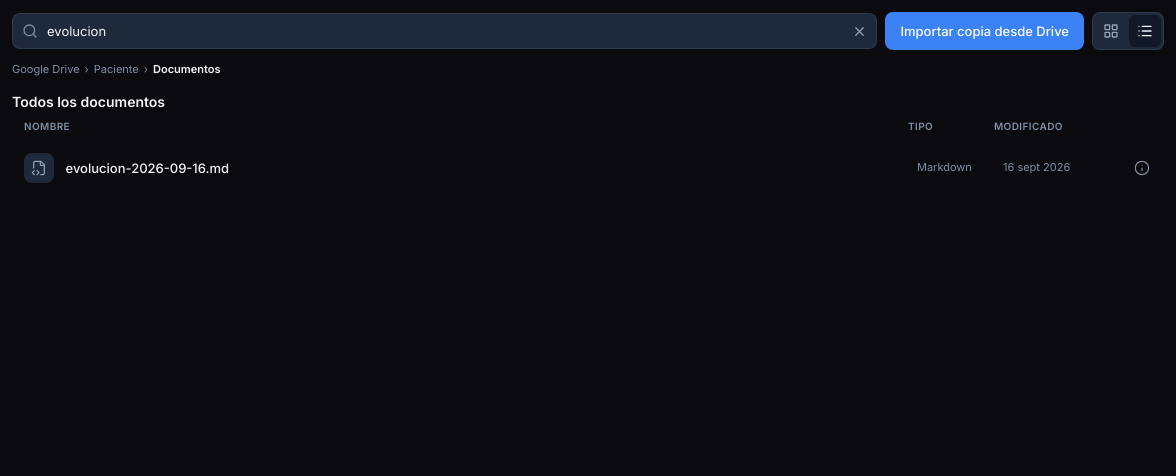
DriveFileBrowser › shows local details without opening the document or exposing technical metadata
The width and height of the screenshot is (1176, 476).
Click the button named "Ver detalles de evolucion-2026-09-16.md" at (1142, 168), box [1125,151,1159,185]
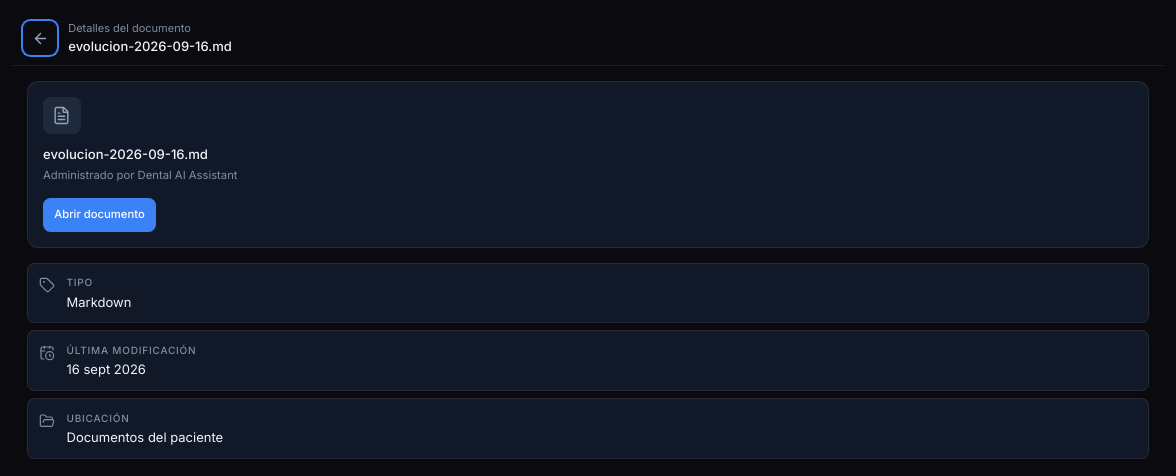
Check: the text "Detalles del documento" is shown, box [68,22,191,36]
Check: the text "Administrado por Dental AI Assistant" is shown, box [43,168,238,183]
Check: the text "Última modificación" is shown, box [66,344,196,356]
